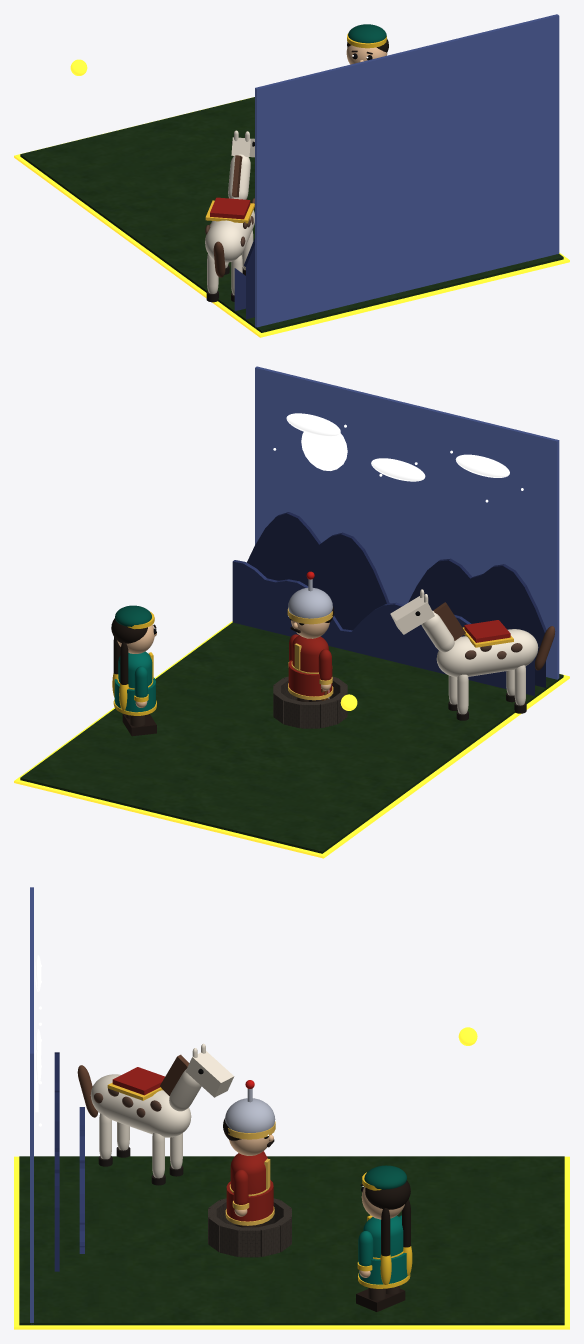
3 views of the same model, one above another, from view 1: azimuth 30°, elevation 25°; view 2: azimuth 150°, elevation 25°; view 3: azimuth 270°, elevation 25° (orthographic). The views are drawn at different scales.
Visible parts, largest first — view 1: Аспан, Жер, Жиек, Torso, Saddle, Түнгі жота, NeckMesh, Takiya, Түнгі жота 2, Face; view 2: Жер, Аспан, Түнгі жота, Түнгі жота 2, Torso (×3), Жиек, Бұлт (×3), Skirt (×2), Ай, Helmet, HeadMesh, Saddle (+2 smaller); view 3: Жер, Torso (×3), Жиек, Қабырға (×3), Skirt (×2), Аспан, Helmet, Түнгі жота, HeadMesh, Leg (×2), Saddle, Түнгі жота 2 (+3 smaller).
Part boxes in pixels (x1,y1,x2,y2): Аспан: [255, 14, 559, 328]; Жер: [20, 97, 563, 332]; Жиек: [14, 98, 569, 337]; Torso: [205, 198, 254, 262]; Saddle: [210, 197, 250, 219]; Түнгі жота: [244, 238, 254, 319]; NeckMesh: [228, 154, 250, 199]; Takiya: [348, 24, 386, 43]; Түнгі жота 2: [234, 268, 245, 311]; Face: [346, 45, 387, 64]; Жер: [20, 622, 563, 853]; Аспан: [255, 366, 559, 679]; Түнгі жота: [247, 512, 546, 687]; Түнгі жота 2: [232, 560, 534, 695]; Torso (×3): [118, 629, 538, 688]; Жиек: [14, 621, 569, 858]; Бұлт (×3): [286, 413, 509, 481]; Skirt (×2): [114, 660, 332, 712]; Ай: [301, 432, 347, 470]; Helmet: [288, 587, 332, 618]; HeadMesh: [390, 596, 434, 634]; Saddle: [464, 620, 510, 642]; Жер: [19, 1156, 564, 1325]; Torso (×3): [90, 1074, 403, 1257]; Жиек: [14, 1156, 569, 1329]; Қабырға (×3): [220, 1223, 279, 1257]; Skirt (×2): [226, 1180, 407, 1284]; Аспан: [30, 887, 33, 1324]; Helmet: [225, 1098, 275, 1132]; Түнгі жота: [54, 1052, 59, 1271]; HeadMesh: [185, 1051, 234, 1097]; Leg (×2): [99, 1113, 164, 1178]; Saddle: [112, 1067, 164, 1095]; Түнгі жота 2: [79, 1107, 84, 1253].
Size of the model in its own units: 1.01 by 0.7206 by 1.33.
33 materials, 2 textured.
